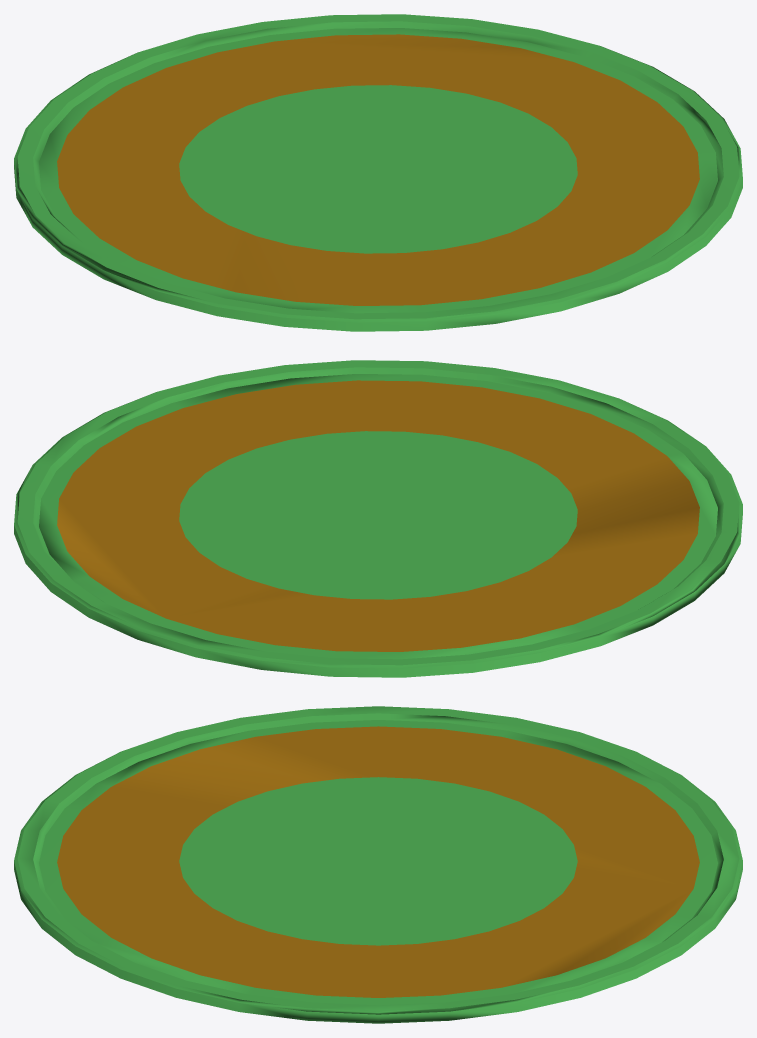
The model's file is Carpet.fbx.
3 views of the same model, one above another, from view 1: azimuth 30°, elevation 25°; view 2: azimuth 150°, elevation 25°; view 3: azimuth 270°, elevation 25° (orthographic).
Visible parts, largest first — view 1: Carpet.001; view 2: Carpet.001; view 3: Carpet.001.
Boxes of the visible parts, bbox=[...] form: Carpet.001: bbox=[14, 14, 742, 331]; Carpet.001: bbox=[14, 360, 742, 677]; Carpet.001: bbox=[14, 706, 742, 1023].
Size of the model in its own units: 1.67 by 0.0277 by 1.67.
